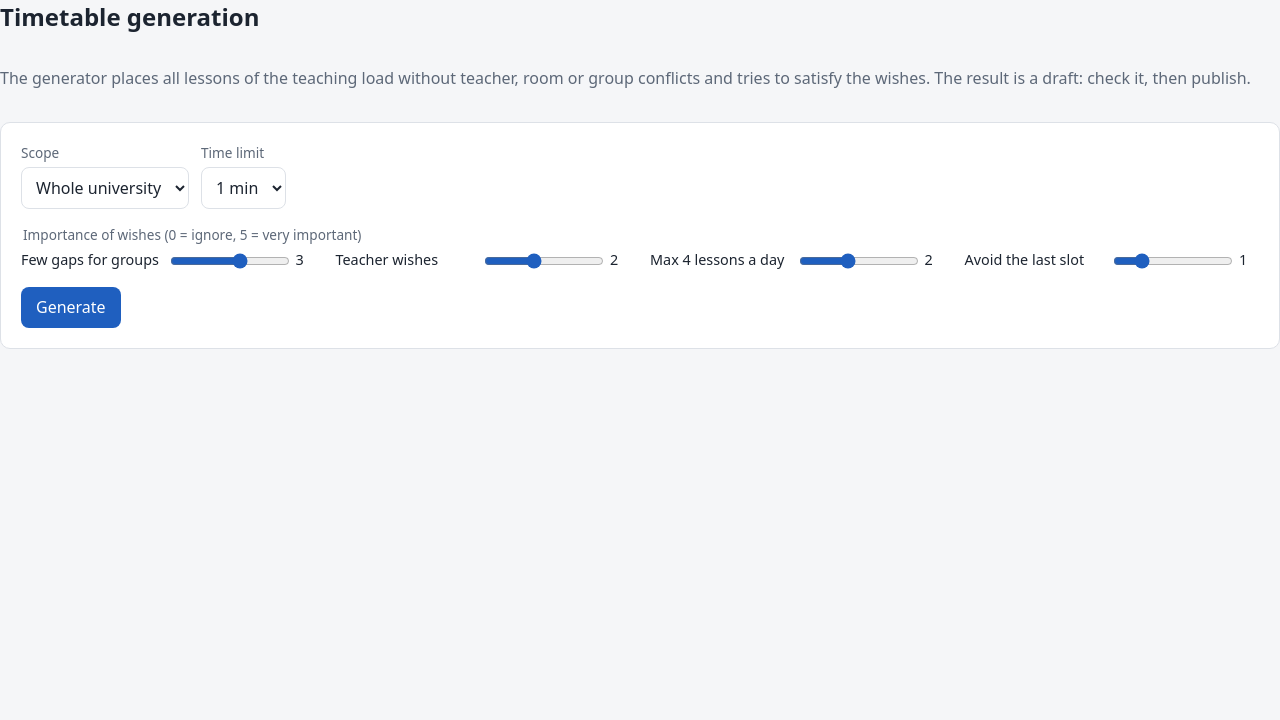
Scenario: GenerationPage › generates a conflict-free draft and publishes it
This screenshot has width=1280, height=720.
Click the button "Generate" at [71, 308], box top-left (21, 287), bottom-right (121, 328)
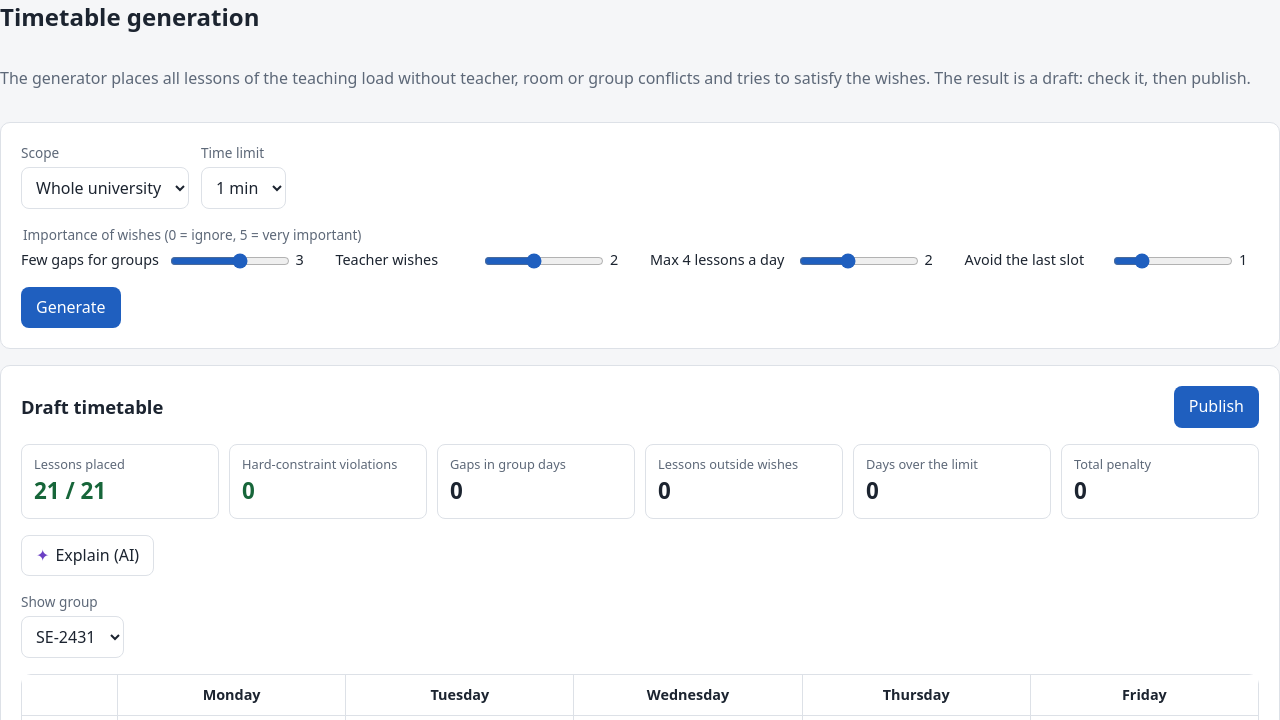
expect the text "21 / 21" is shown: met, box top-left (34, 475), bottom-right (106, 506)
expect the text "0" below "Hard-constraint violations" is shown: met, box top-left (242, 475), bottom-right (255, 506)
Click the button "Publish" at [1216, 407], box top-left (1174, 386), bottom-right (1259, 428)
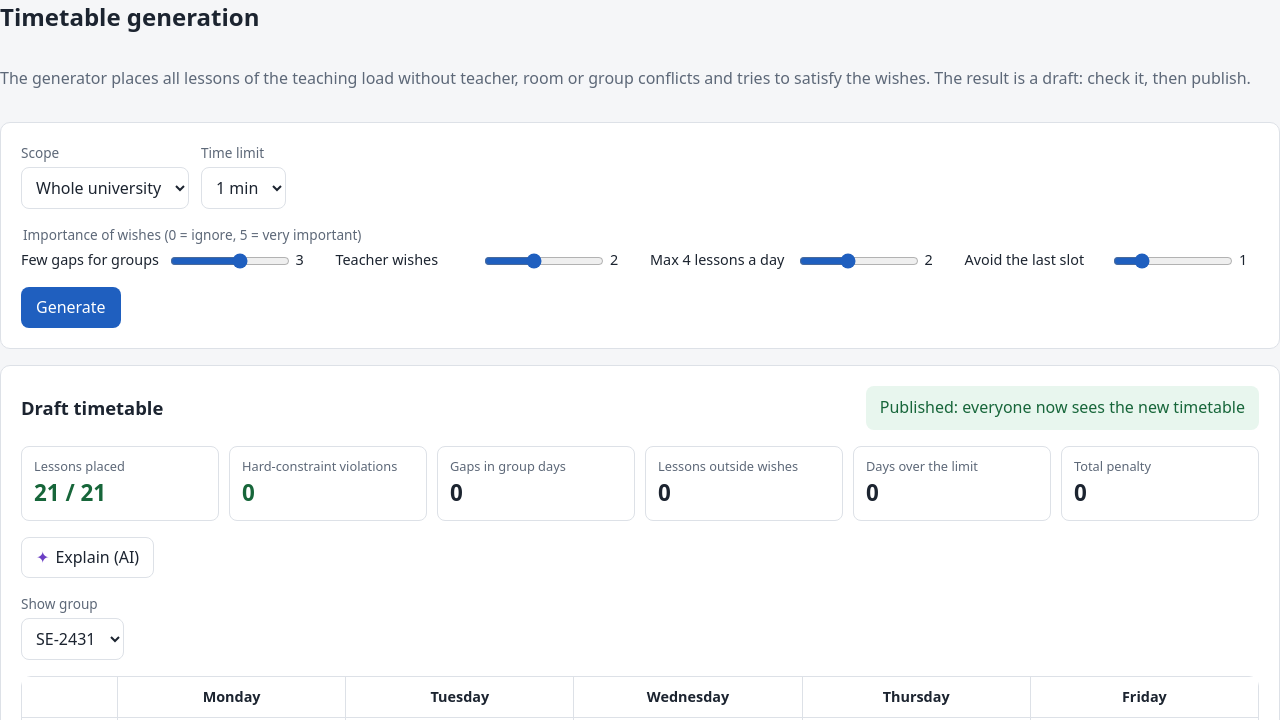
expect the text "Published: everyone now sees the new timetable" is shown: met, box top-left (866, 386), bottom-right (1259, 430)
